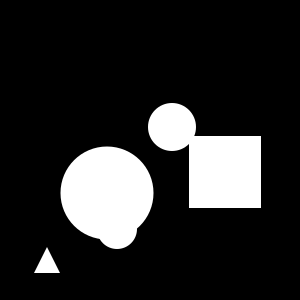circle: (189, 136, 261, 208)
rectangle: (61, 146, 154, 240), (148, 103, 196, 151), (97, 209, 137, 249)
triangle: (34, 247, 60, 273)
